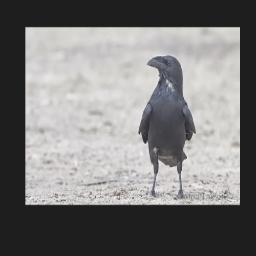Crow: (137, 54, 197, 200)
